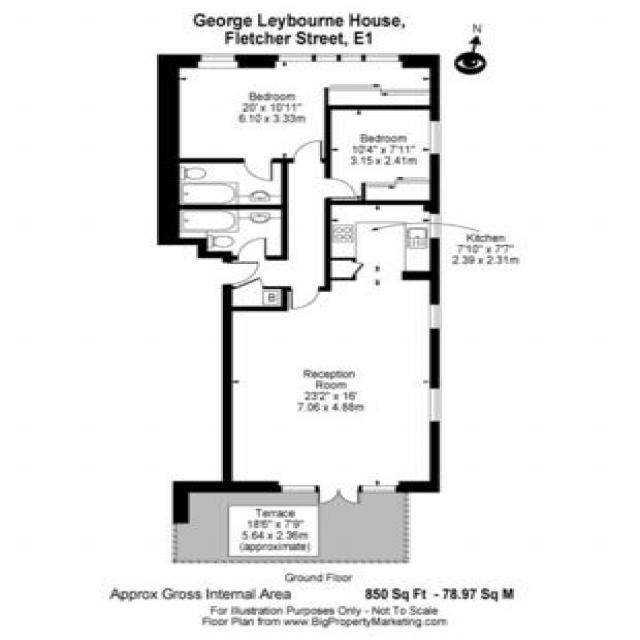DOOR: (222, 260, 262, 286), (241, 157, 274, 182), (289, 286, 321, 311), (324, 177, 358, 200), (291, 140, 323, 163), (236, 237, 268, 260)
DOUBLE DOOR: (318, 484, 359, 506)
ROOM: (220, 200, 440, 507), (157, 54, 440, 182), (324, 104, 441, 206)
WINDOW: (272, 53, 404, 69), (196, 53, 239, 70), (428, 120, 442, 156), (428, 387, 442, 423), (428, 212, 442, 240), (428, 302, 442, 330), (360, 484, 398, 494), (279, 484, 317, 494)
